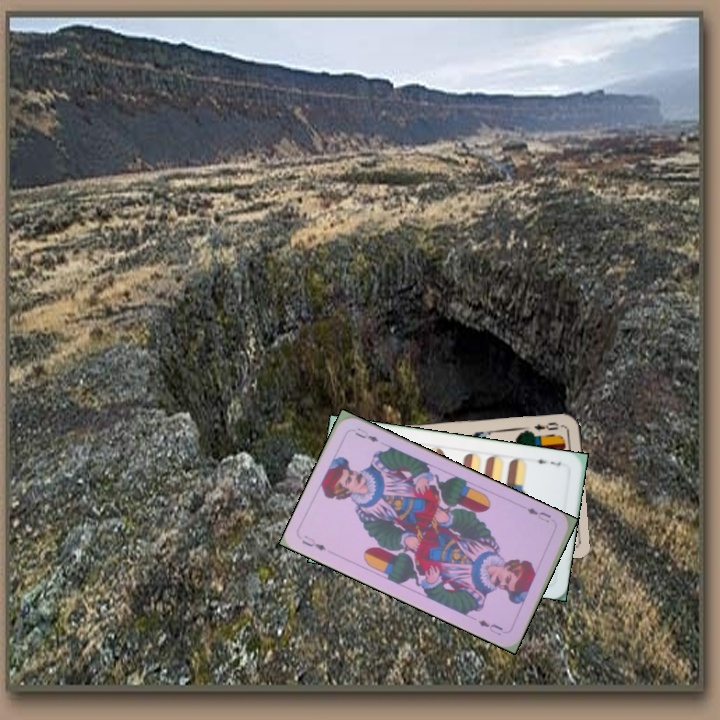E7: (529, 454, 564, 468)
EO: (530, 418, 561, 434)
EU: (298, 531, 328, 553), (523, 504, 554, 525)
